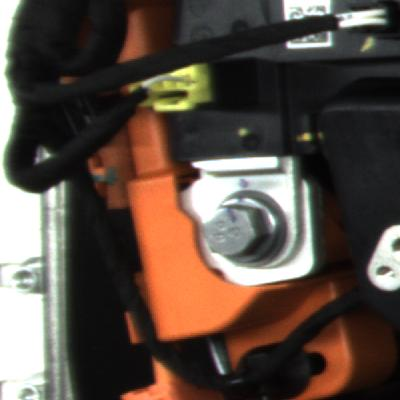nut_b: (190, 177, 305, 274)
